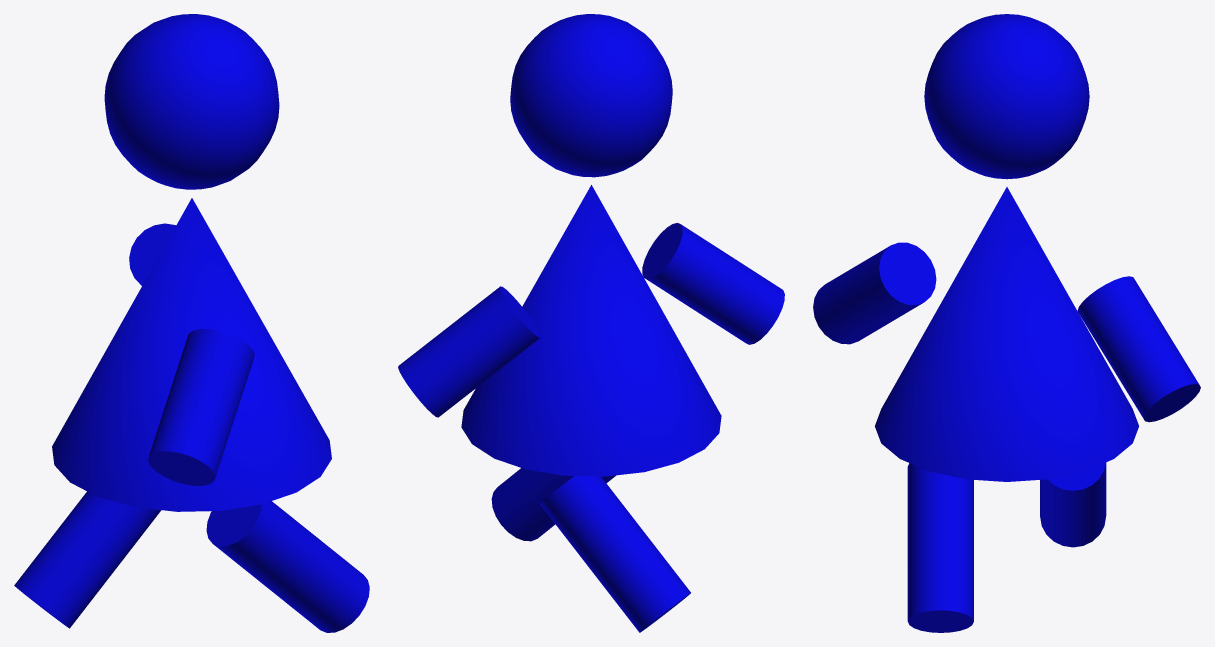
The model's file is rightLeg.fbx.
The picture shows the model from 3 angles, left to right: view 1: azimuth 30°, elevation 25°; view 2: azimuth 150°, elevation 25°; view 3: azimuth 270°, elevation 25°; orthographic projection. The views are drawn at different scales.
Visible parts, largest first — view 1: pCone1, pSphere1, pCylinder1, pCylinder3, pCylinder2, pCylinder4; view 2: pCone1, pSphere1, pCylinder2, pCylinder3, pCylinder4, pCylinder1; view 3: pCone1, pSphere1, pCylinder1, pCylinder4, pCylinder3, pCylinder2.
Boxes of the visible parts, bbox=[...] form: pCone1: bbox=[52, 198, 331, 511]; pSphere1: bbox=[104, 14, 279, 189]; pCylinder1: bbox=[206, 501, 369, 632]; pCylinder3: bbox=[148, 329, 254, 485]; pCylinder2: bbox=[14, 491, 161, 628]; pCylinder4: bbox=[129, 223, 175, 285]; pCone1: bbox=[461, 185, 721, 476]; pSphere1: bbox=[510, 14, 672, 177]; pCylinder2: bbox=[539, 476, 690, 632]; pCylinder3: bbox=[642, 223, 784, 344]; pCylinder4: bbox=[398, 286, 540, 417]; pCylinder1: bbox=[491, 468, 615, 541]; pCone1: bbox=[875, 187, 1138, 481]; pSphere1: bbox=[924, 14, 1089, 179]; pCylinder1: bbox=[907, 463, 973, 632]; pCylinder4: bbox=[1077, 276, 1200, 422]; pCylinder3: bbox=[813, 242, 936, 344]; pCylinder2: bbox=[1040, 462, 1106, 547].
Bounding box in the file's own units: 1.79 × 3.79 × 2.35.
